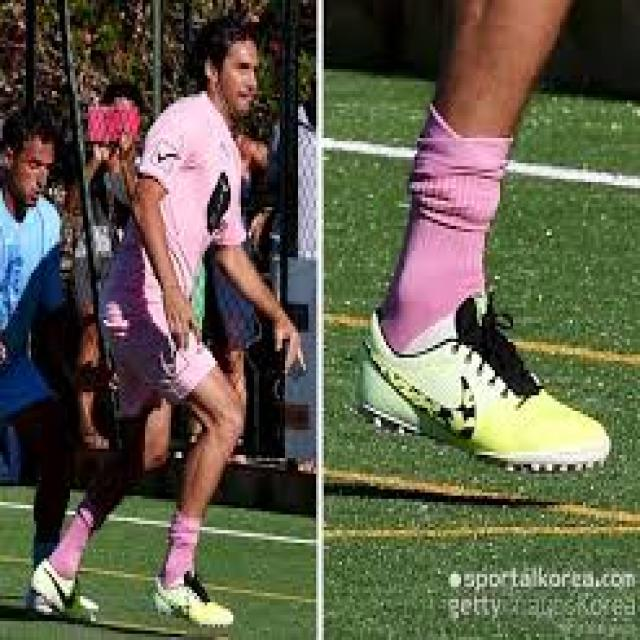shoe: (342, 281, 618, 490), (148, 558, 244, 634), (22, 552, 114, 624)
